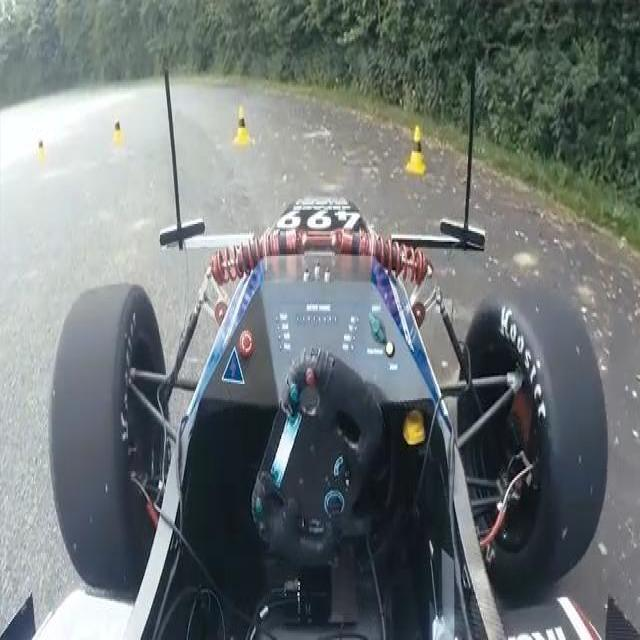yellow_cone: (405, 124, 427, 175), (234, 105, 251, 146)
